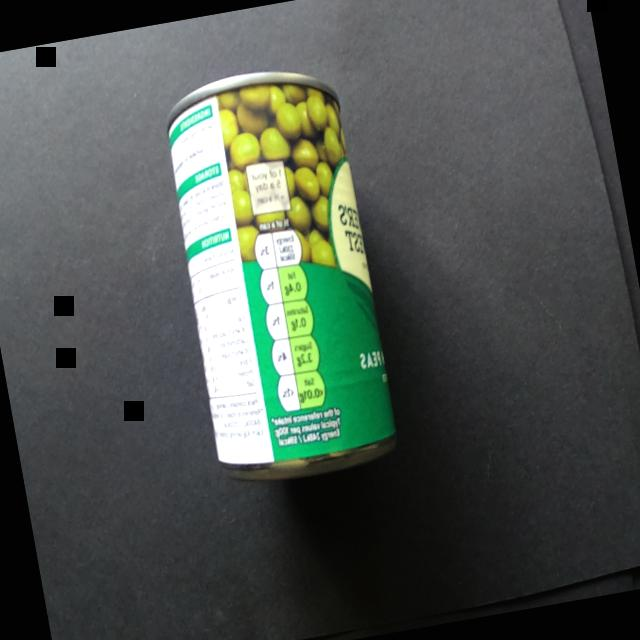Peas: (124, 36, 426, 513)
